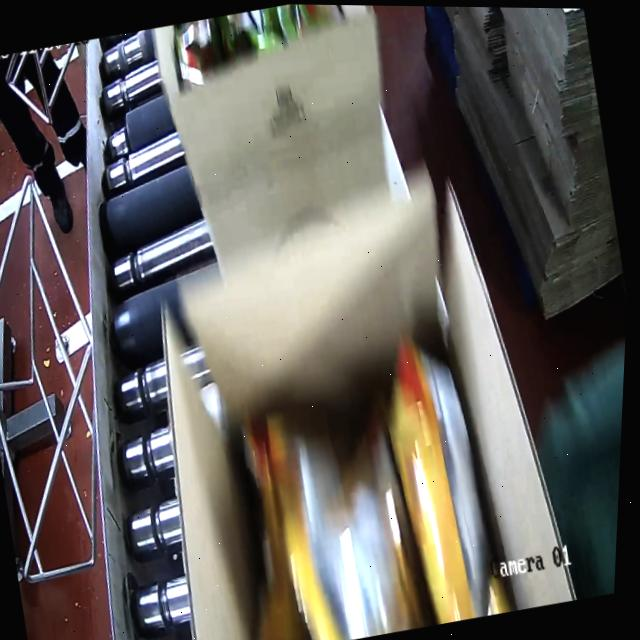FRENCH_CHEESE: (182, 295, 562, 640)
